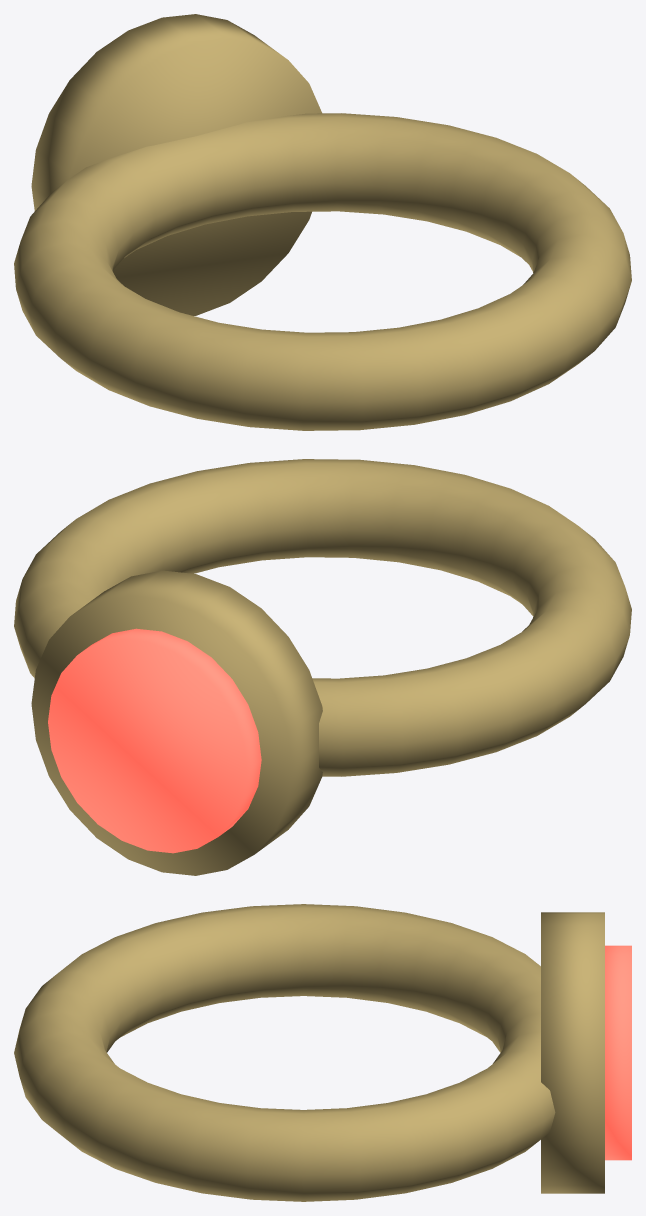
The model's file is acc_blood_ring.glb.
The picture shows the model from 3 angles, top to bottom: view 1: azimuth 30°, elevation 25°; view 2: azimuth 150°, elevation 25°; view 3: azimuth 270°, elevation 25°; orthographic projection. The views are drawn at different scales.
Visible parts, largest first — view 1: acc_blood_ring; view 2: acc_blood_ring; view 3: acc_blood_ring.
Boxes of the visible parts, x1,y1,x2,y2 form: acc_blood_ring: (14,14,631,430); acc_blood_ring: (14,459,631,875); acc_blood_ring: (14,904,631,1201).
Bounding box in the file's own units: 0.0226 × 0.011 × 0.0241.
